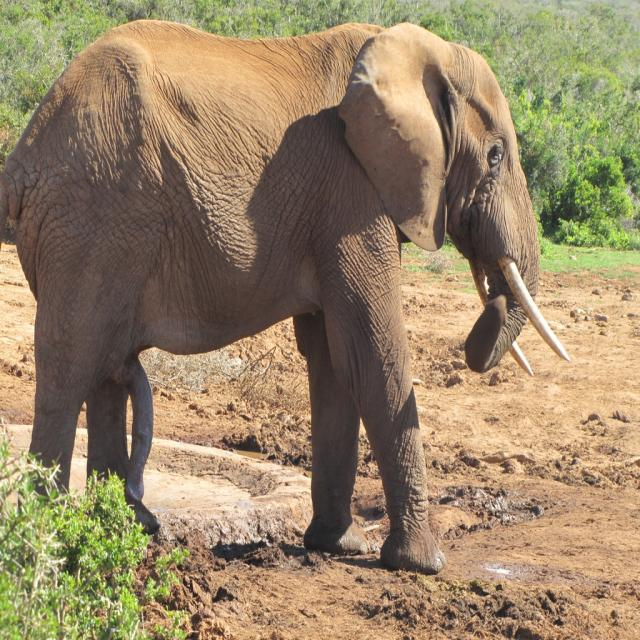elephant: (21, 9, 595, 518)
